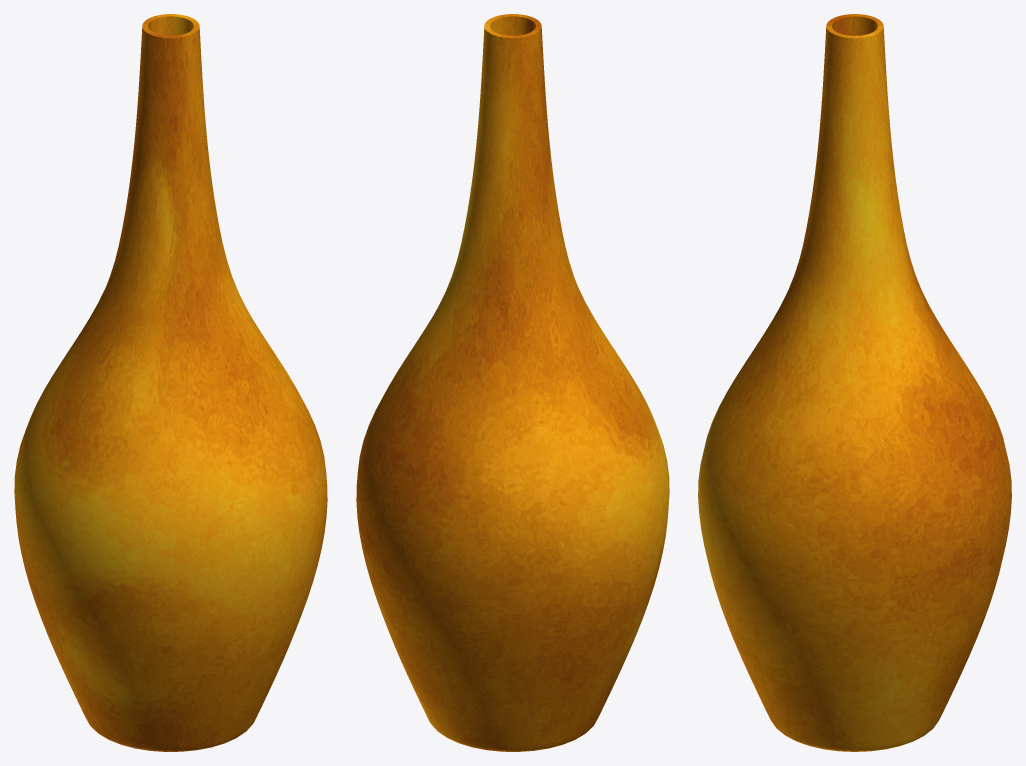
The model's file is vase1.FBX.
3 views of the same model, side by side, from view 1: azimuth 30°, elevation 25°; view 2: azimuth 150°, elevation 25°; view 3: azimuth 270°, elevation 25° (orthographic).
Parts seen in each view (by area): view 1: vase2; view 2: vase2; view 3: vase2.
Part boxes in pixels (x1,y1,x2,y2): vase2: (14, 14, 327, 751); vase2: (356, 14, 669, 751); vase2: (698, 14, 1011, 751).
Size of the model in its own units: 127 by 127 by 310.
